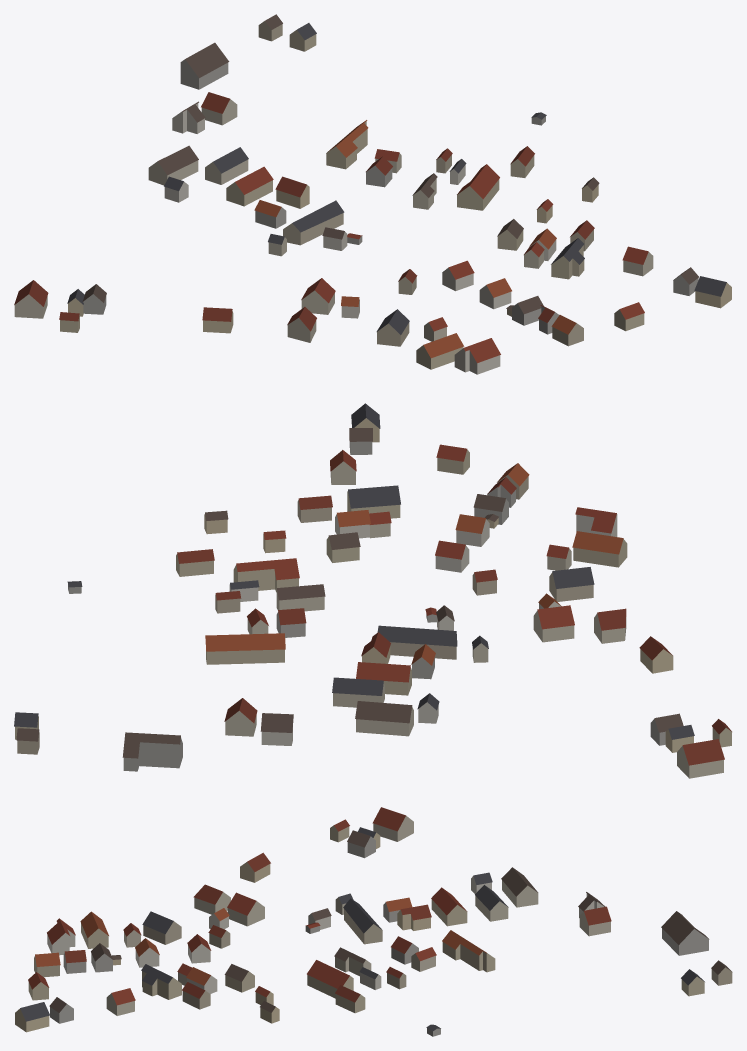
3 renders of one model, top to bottom at view 1: azimuth 30°, elevation 25°; view 2: azimuth 150°, elevation 25°; view 3: azimuth 270°, elevation 25°, orthographic. The views are drawn at different scales.
Visible parts, largest first — view 1: buildings; view 2: buildings; view 3: buildings.
Boxes of the visible parts, x1=… form: buildings: x1=14, y1=14, x2=731, y2=374; buildings: x1=14, y1=403, x2=731, y2=778; buildings: x1=15, y1=807, x2=732, y2=1036.
Bounding box in the file's own units: 287 × 32.75 × 345.
